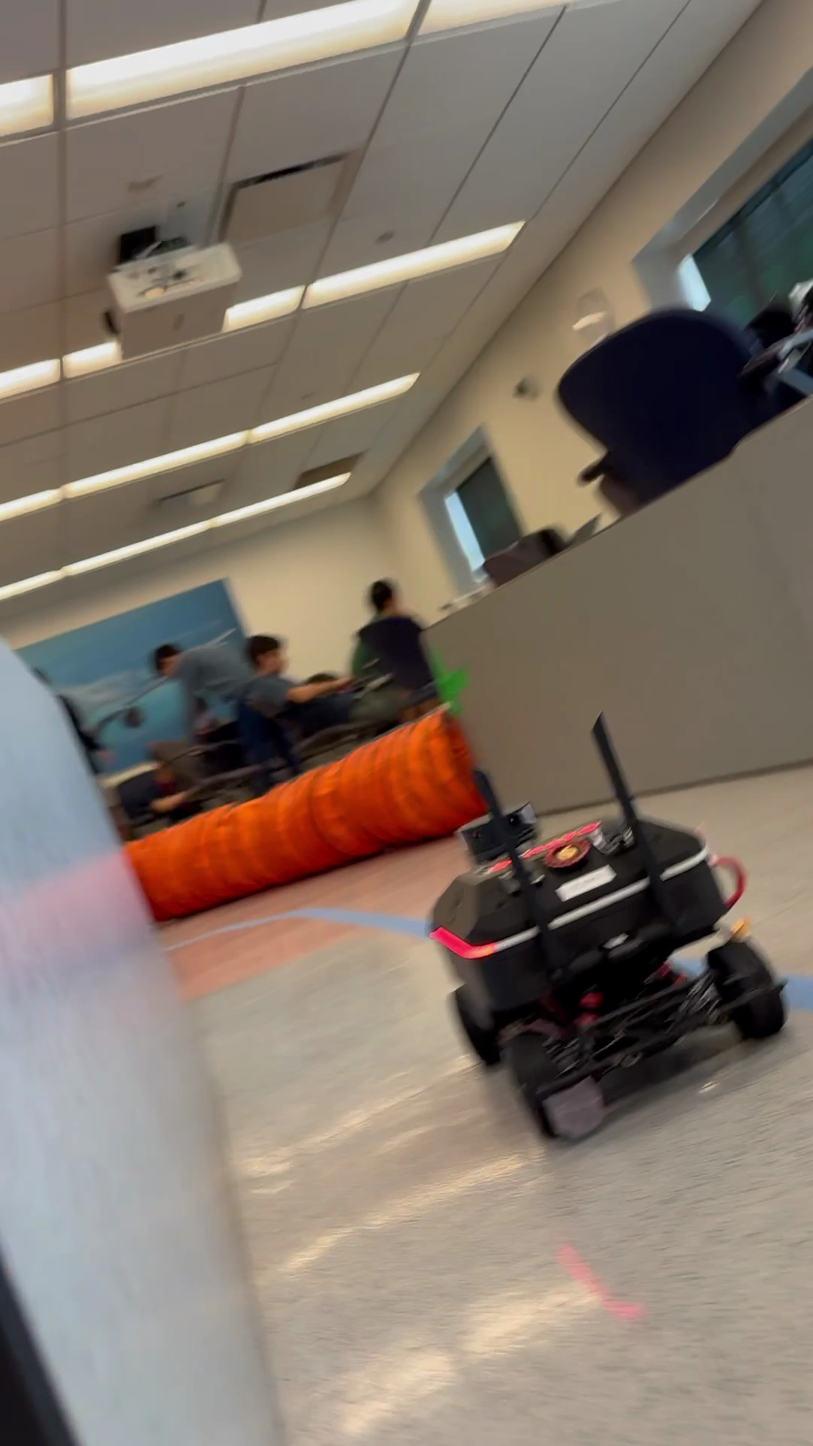racecar: (425, 712, 790, 1145)
